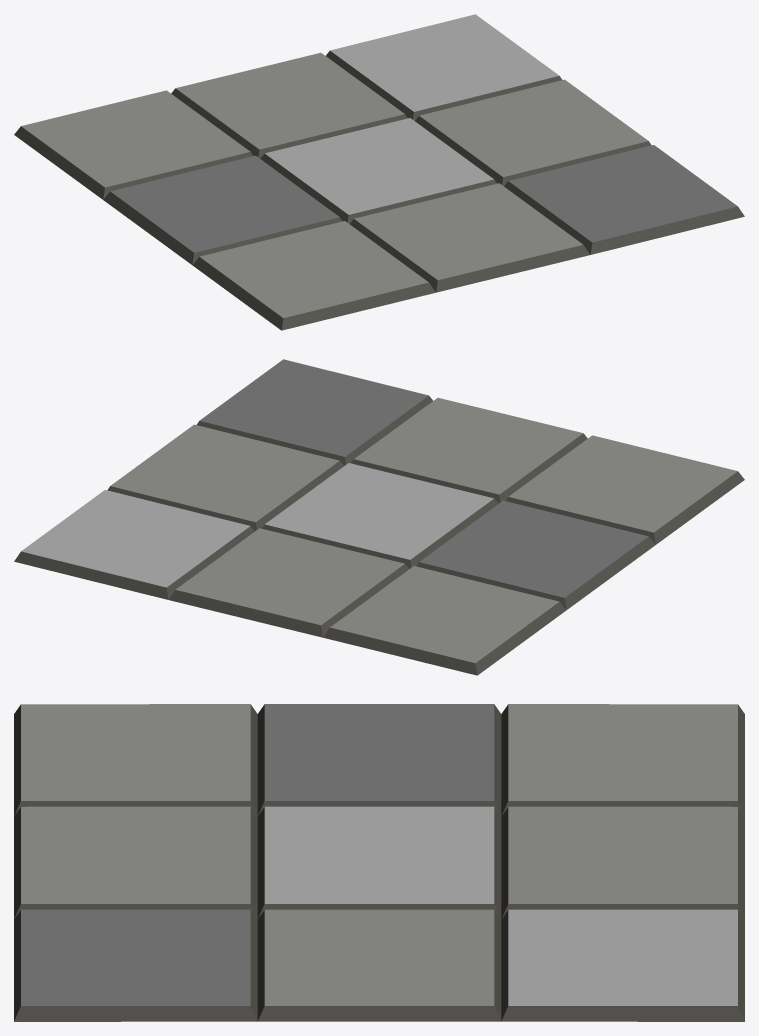
Rendered from Sidewalk.fbx.
3 views of the same model, one above another, from view 1: azimuth 30°, elevation 25°; view 2: azimuth 150°, elevation 25°; view 3: azimuth 270°, elevation 25° (orthographic). The views are drawn at different scales.
Visible parts, largest first — view 1: sidewalk; view 2: sidewalk; view 3: sidewalk.
Boxes of the visible parts, x1,y1,x2,y2 form: sidewalk: (14,14,744,330); sidewalk: (14,359,744,675); sidewalk: (14,704,744,1021).
Size of the model in its own units: 5.11 by 0.1103 by 5.11.
